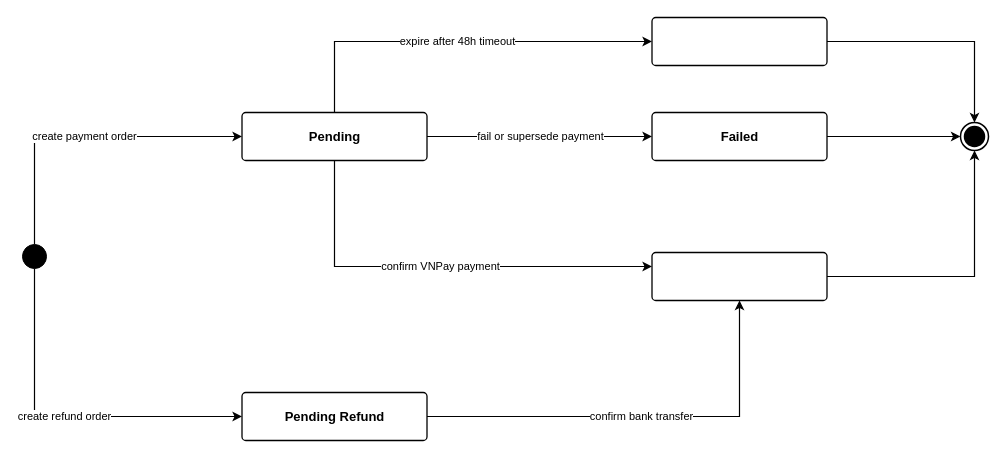
The diagram is 1006 pixels wide and 459 high, and some of its shapes have lost their labels. Here are the shapes that lost their labels. From the top down, the box of each, then its label:
(651, 16, 827, 66): Expired
(651, 251, 827, 301): Success
